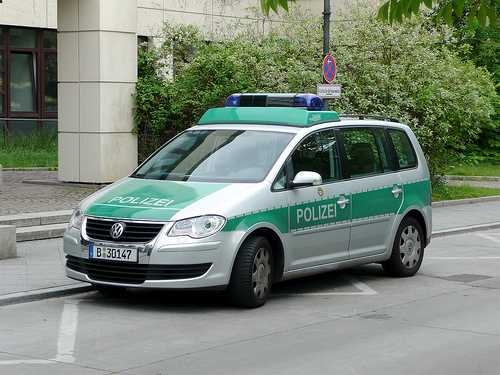Police Car: (50, 80, 433, 317)
